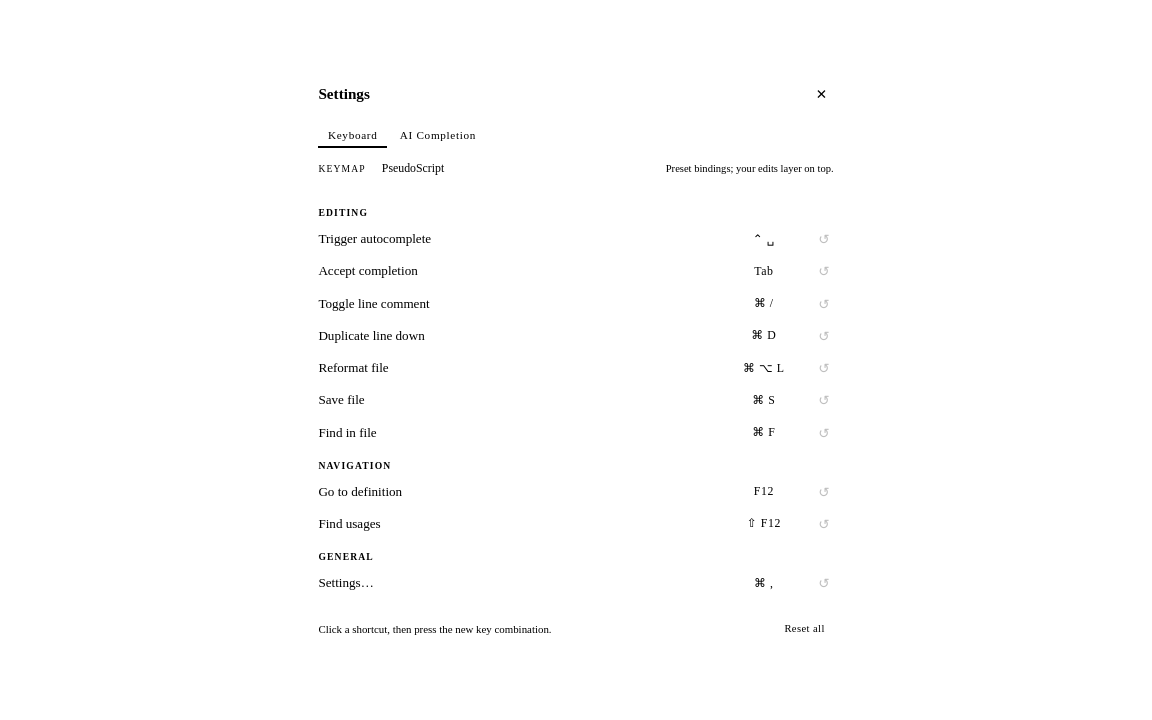
Scenario: Settings › opens on the keyboard tab and switches to AI Completion
This screenshot has width=1152, height=720.
Expected: the button with test id "keybind-saveDocument" is shown, top-left (720, 389), bottom-right (808, 411)
Click the tab with test id "settings-tab-ai".
click(438, 136)  # box top-left (390, 123), bottom-right (486, 148)
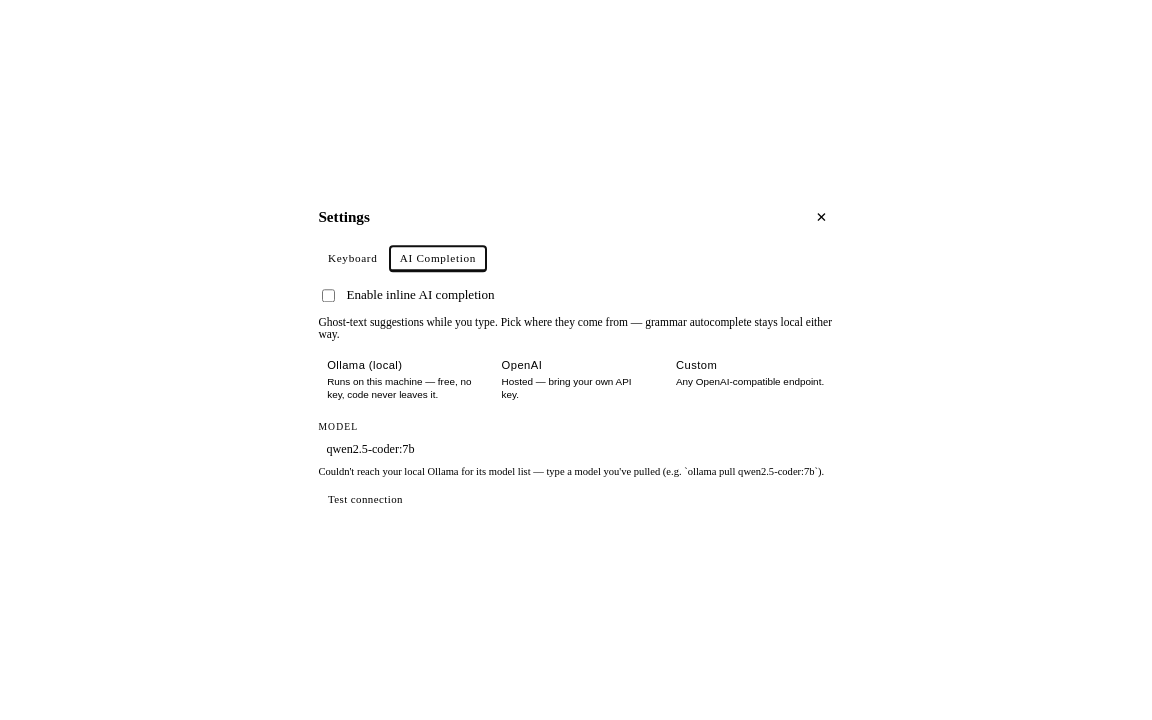
Expected: the element with test id "llm-panel" is shown, top-left (304, 272), bottom-right (848, 525)
Expected: the button with test id "keybind-saveDocument" is gone
Click the tab with test id "settings-tab-keyboard".
click(353, 259)  # box top-left (318, 246), bottom-right (387, 272)
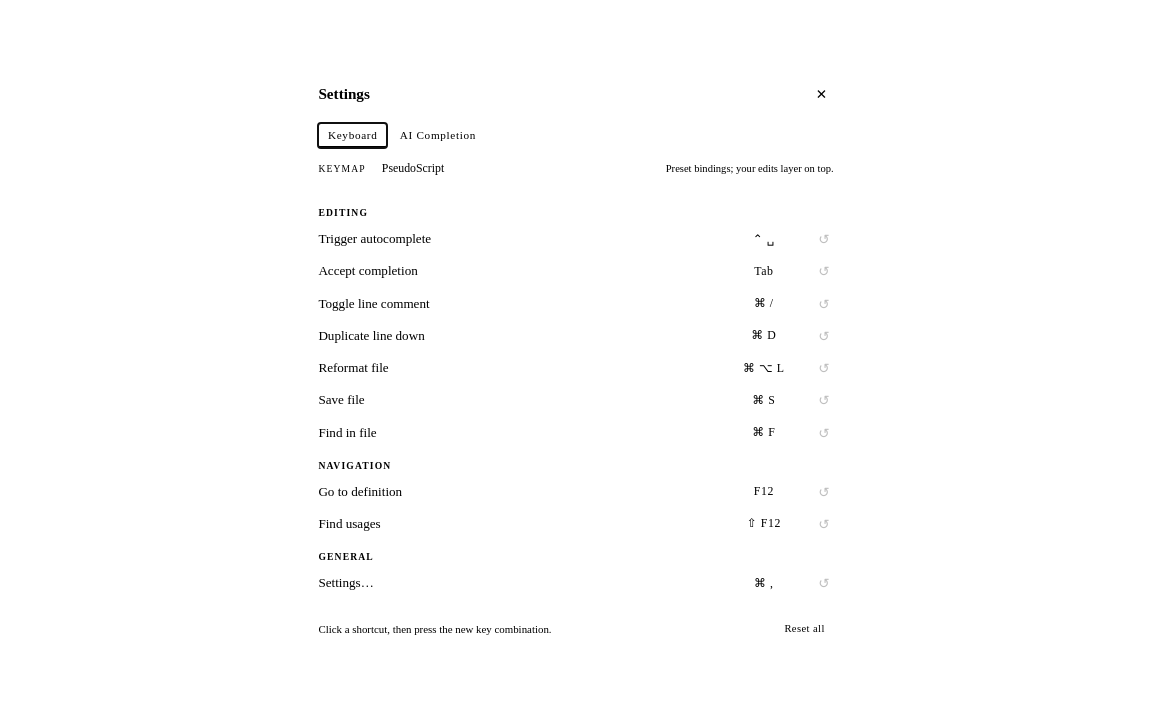
Expected: the button with test id "keybind-saveDocument" is shown, top-left (720, 389), bottom-right (808, 411)
